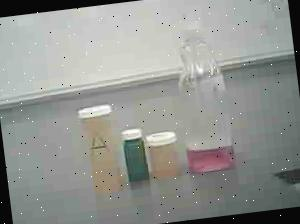Bottle A: (72, 96, 126, 201)
Bottle B: (145, 123, 186, 188)
Bottle C: (117, 119, 154, 188)
hazard: (162, 0, 251, 180)
